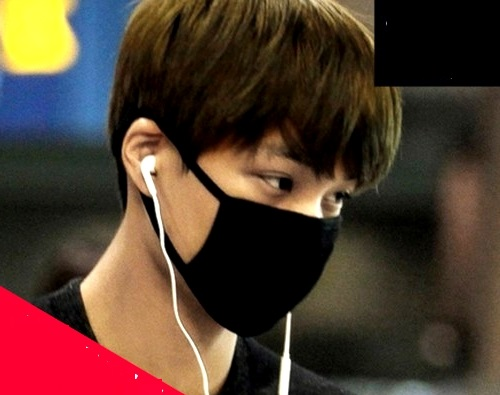face_mask: (171, 83, 367, 335)
